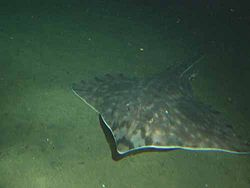Big Skate: (68, 39, 250, 178)
